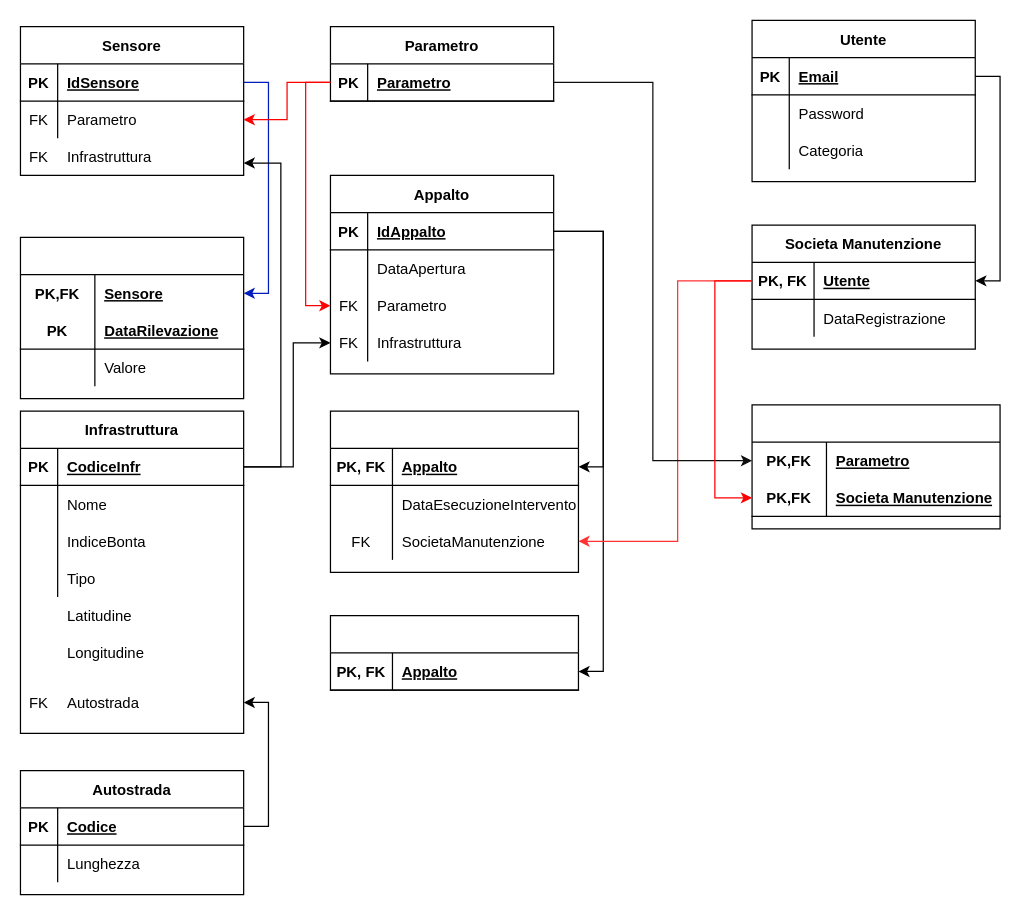
The diagram is 1021 pixels wide and 915 high, and some of its shapes have lost their labels. Each missing label, with the box of its shape:
Aperto: (329, 614, 578, 690)
Concluso: (329, 410, 578, 572)
Disponibilita: (751, 404, 1000, 529)
Storico Rilevazioni: (19, 236, 244, 399)
